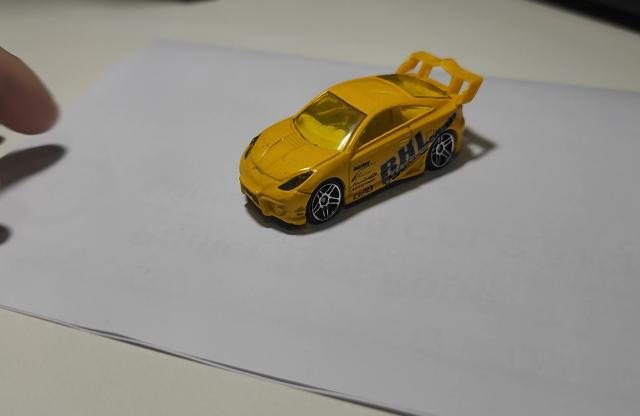07_RHLTURBO: (239, 52, 484, 237)
